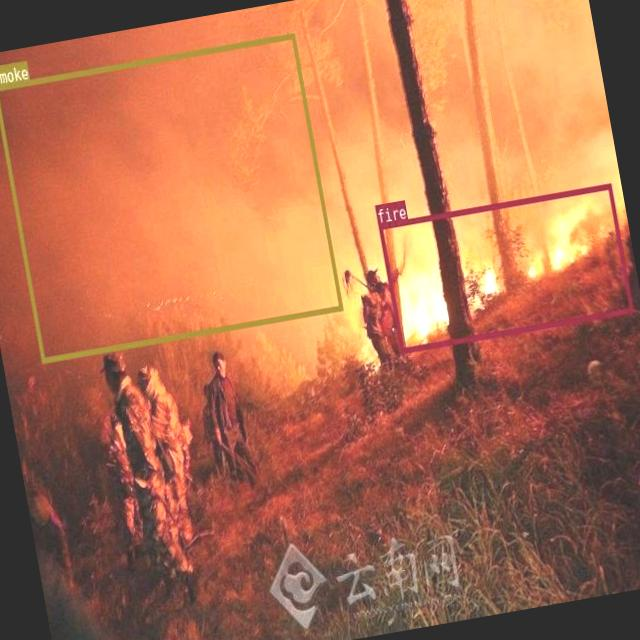fire: (378, 182, 632, 352)
smoke: (0, 31, 342, 361)
